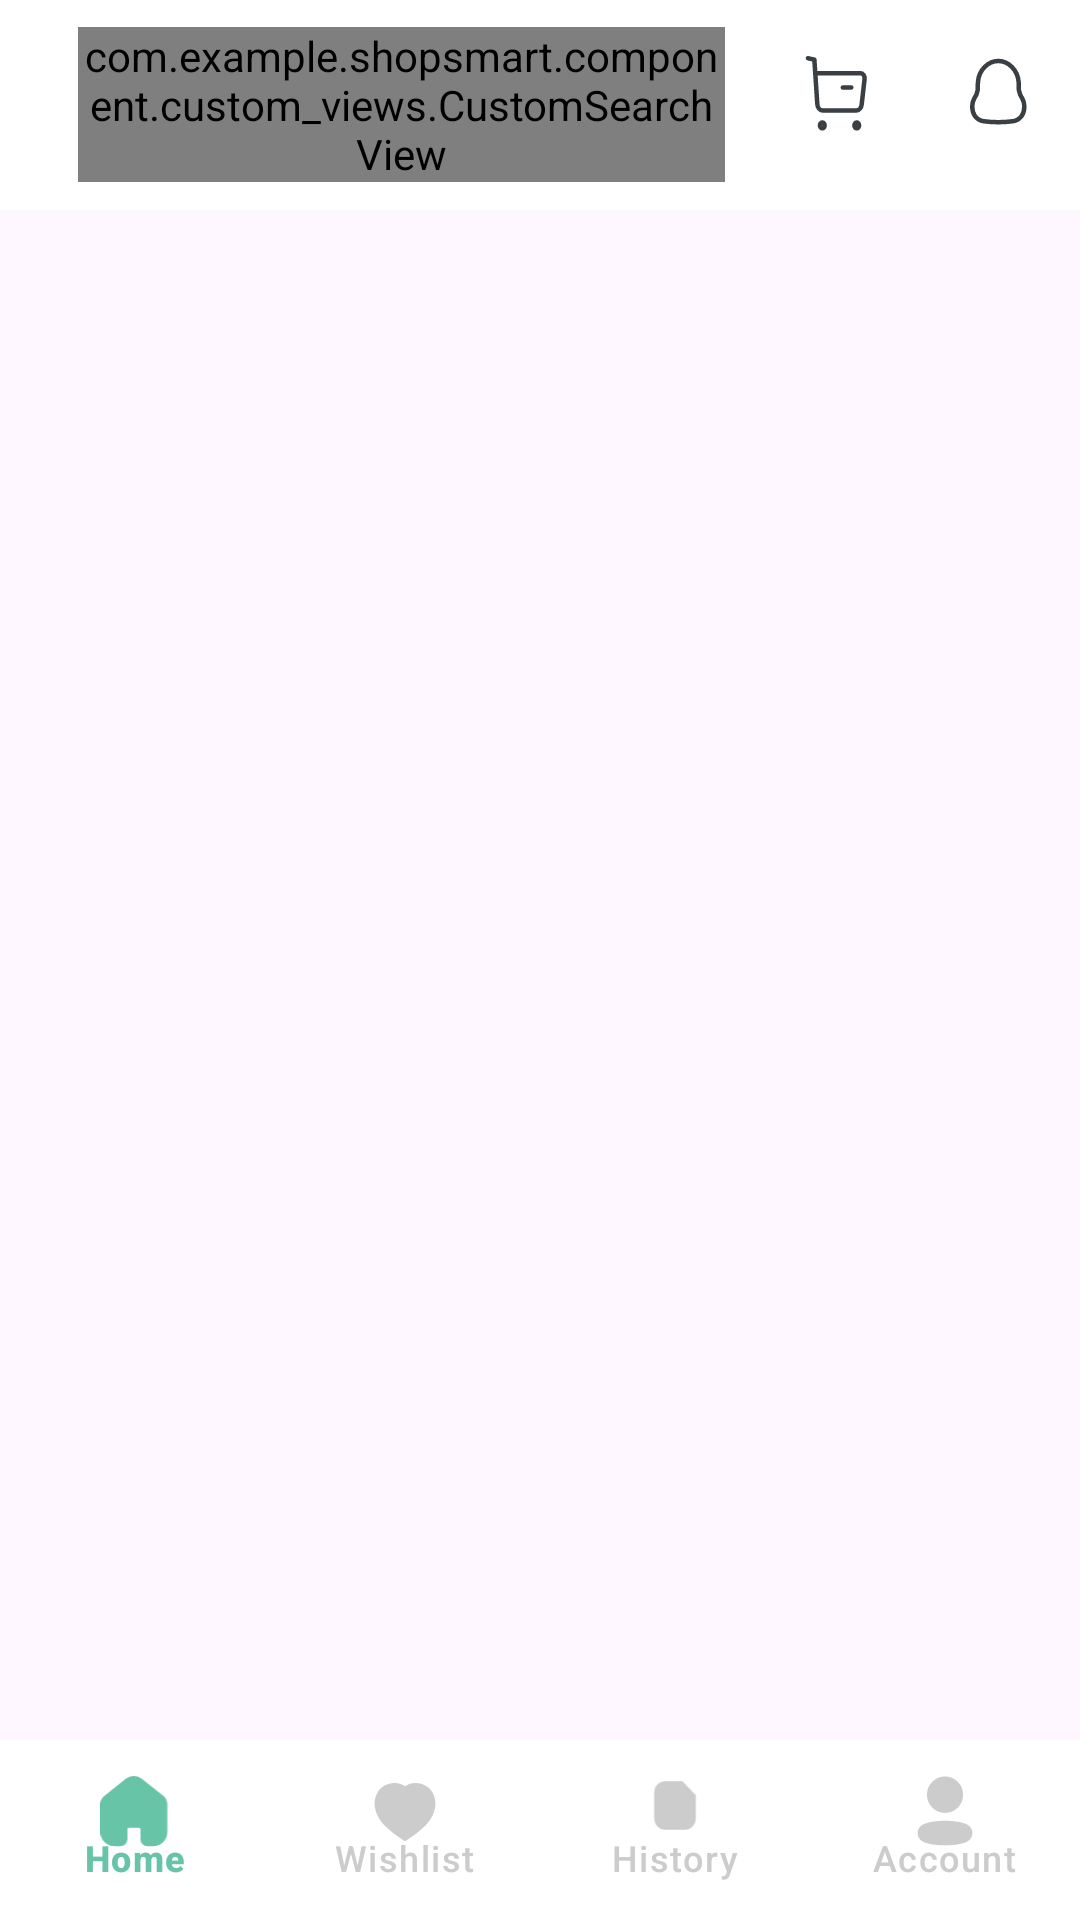

Icons on this 1080px×1920px Android screen, each with its box as (x1, y1, x2, y2):
notification: (970, 58, 1027, 125)
